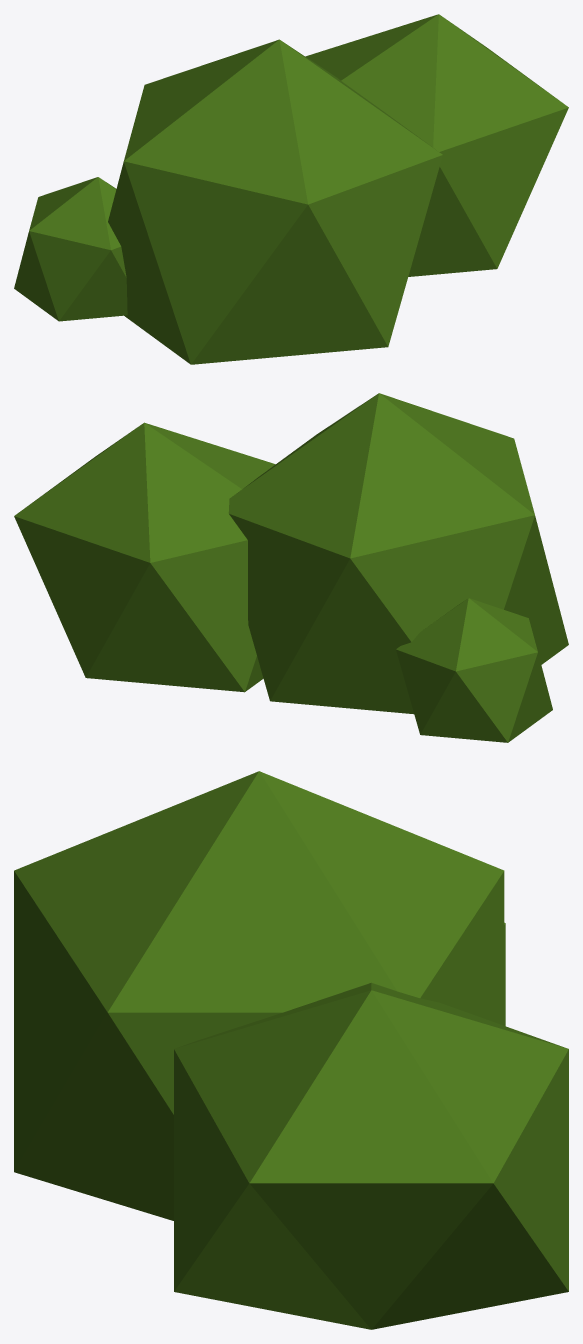
The model's file is bush2.fbx.
The picture shows the model from 3 angles, top to bottom: view 1: azimuth 30°, elevation 25°; view 2: azimuth 150°, elevation 25°; view 3: azimuth 270°, elevation 25°; orthographic projection. The views are drawn at different scales.
Visible parts, largest first — view 1: bush2; view 2: bush2; view 3: bush2.
Part boxes in pixels (<box>): bush2: <box>14,14,568,364</box>; bush2: <box>14,393,568,742</box>; bush2: <box>14,771,568,1329</box>.
Bounding box in the file's own units: 1949 × 968 × 1273.
